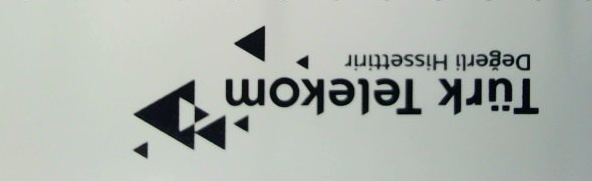AQ_TURKTelekom: (113, 25, 537, 162)
